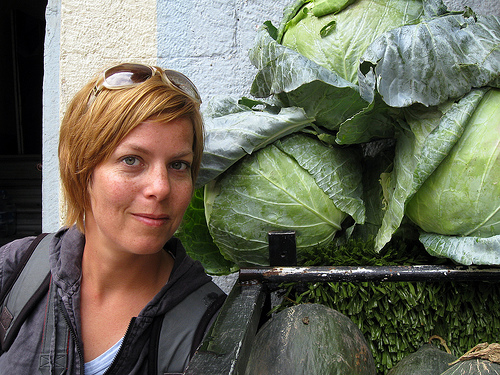cabbage: (249, 1, 498, 118), (204, 129, 364, 264), (395, 90, 499, 263)
